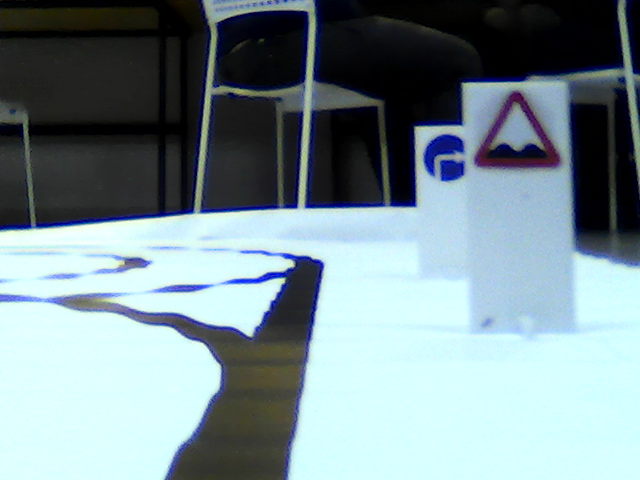Nerov: (475, 90, 561, 169)
Right: (421, 132, 466, 183)
